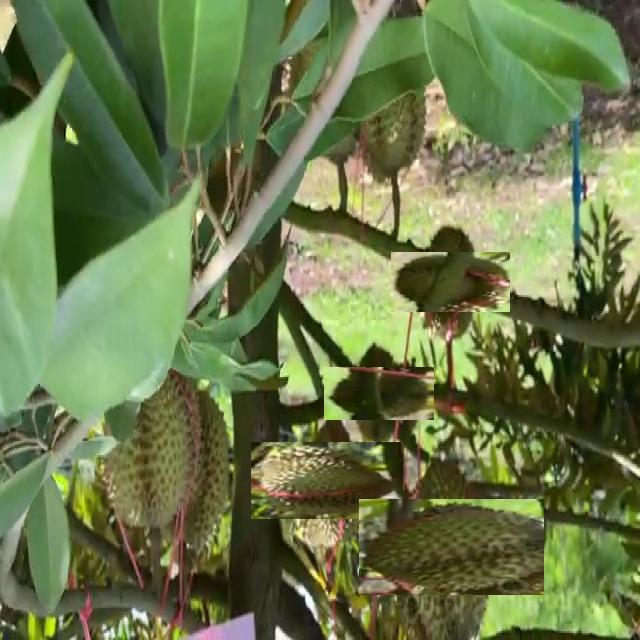durian: (97, 324, 203, 536), (381, 477, 521, 618), (146, 386, 234, 561), (353, 2, 428, 192), (270, 424, 384, 538), (405, 237, 495, 327), (337, 352, 420, 434)
